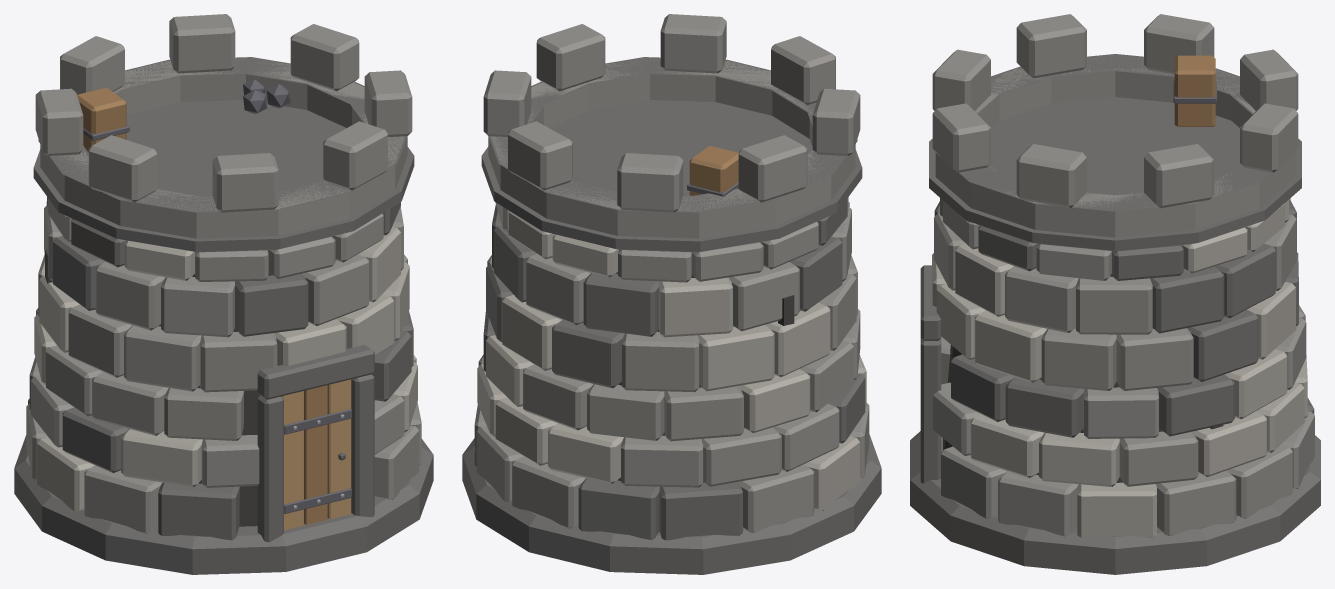
Rendered from cannon_tower_1.glb.
3 views of the same model, side by side, from view 1: azimuth 30°, elevation 25°; view 2: azimuth 150°, elevation 25°; view 3: azimuth 270°, elevation 25° (orthographic).
Parts seen in each view (by area): view 1: CannonTower; view 2: CannonTower; view 3: CannonTower.
Part boxes in pixels (left/top/right/bottom): CannonTower: left=14, top=14, right=433, bottom=574; CannonTower: left=462, top=14, right=881, bottom=574; CannonTower: left=910, top=14, right=1320, bottom=574.
Bounding box in the file's own units: 3.7 × 3.84 × 3.61.
